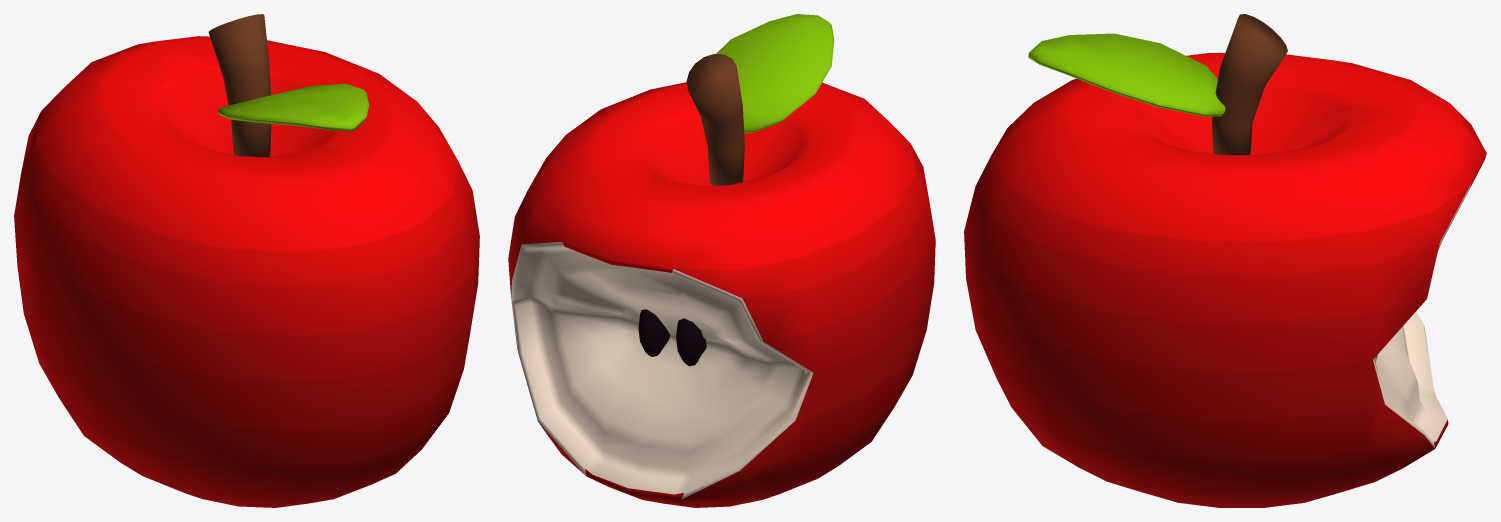
File: apple.fbx
3 views of the same model, side by side, from view 1: azimuth 30°, elevation 25°; view 2: azimuth 150°, elevation 25°; view 3: azimuth 270°, elevation 25° (orthographic). The views are drawn at different scales.
Visible parts, largest first — view 1: apple; view 2: apple; view 3: apple.
Boxes of the visible parts, x1,y1,x2,y2 form: apple: [14, 14, 479, 507]; apple: [508, 14, 935, 507]; apple: [964, 14, 1486, 507].
Size of the model in its own units: 1.65 by 1.91 by 1.97.
